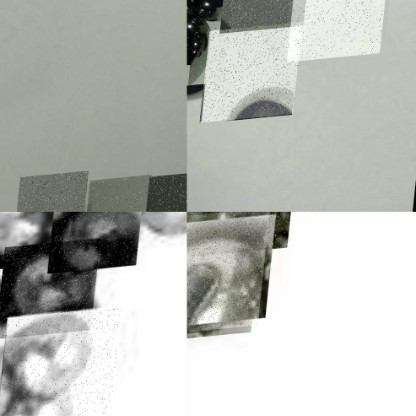ironball: (186, 211, 271, 336), (4, 307, 92, 413), (51, 211, 145, 274), (186, 211, 299, 259), (186, 0, 233, 91), (21, 255, 93, 314), (222, 86, 295, 119), (0, 213, 55, 251), (0, 253, 21, 320), (139, 211, 186, 240)
